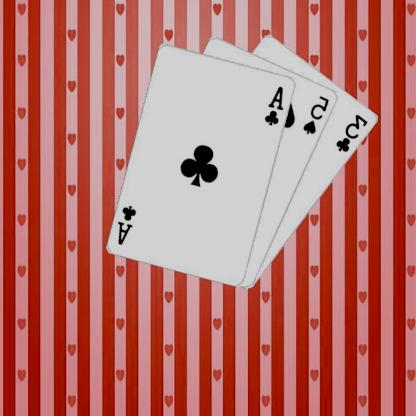3C: (336, 111, 372, 154)
5S: (302, 93, 333, 136)
AC: (264, 83, 287, 127), (117, 202, 140, 246)
